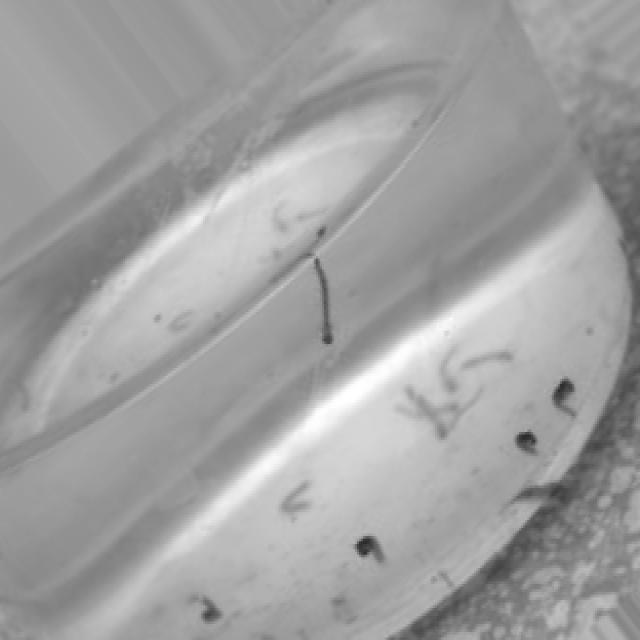larvas: (265, 217, 336, 288), (404, 379, 452, 443), (313, 255, 332, 342), (450, 383, 485, 428), (512, 480, 564, 506), (281, 478, 309, 520), (463, 351, 509, 372), (439, 346, 459, 394), (556, 380, 579, 420), (399, 402, 458, 417), (355, 538, 384, 564), (269, 200, 292, 232), (169, 305, 192, 337), (13, 368, 30, 411), (190, 597, 219, 621), (516, 432, 542, 458), (294, 214, 324, 227)
